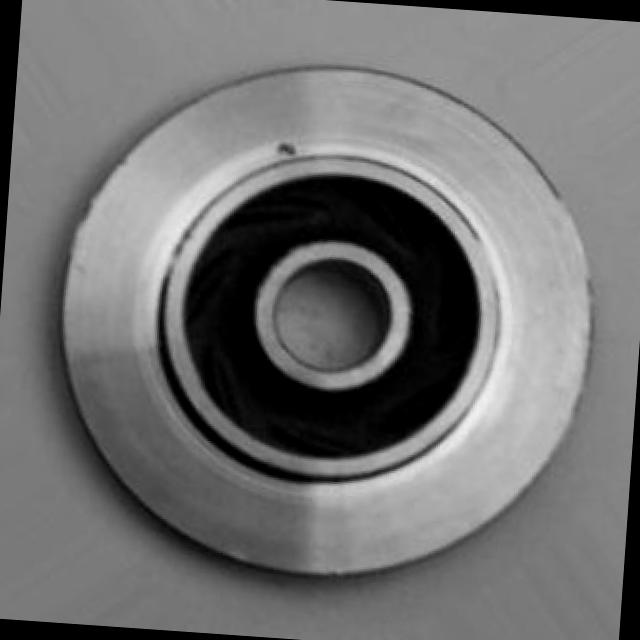Defect: (268, 130, 310, 169)
